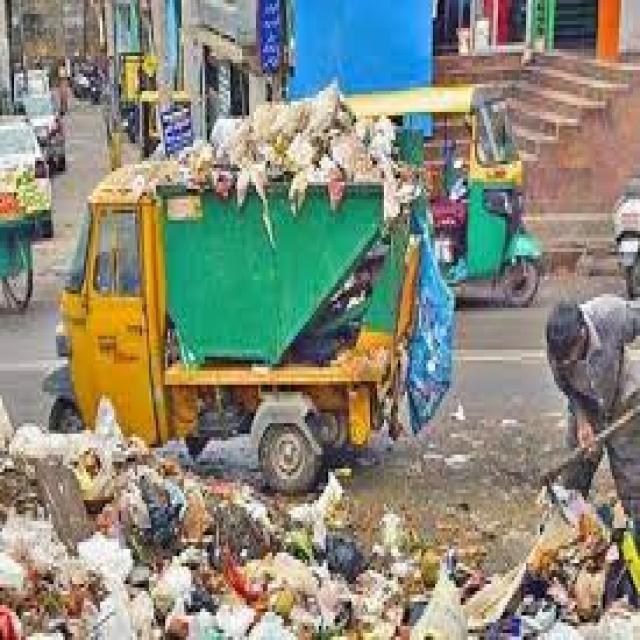garbage: (47, 81, 456, 493), (0, 392, 638, 636)
